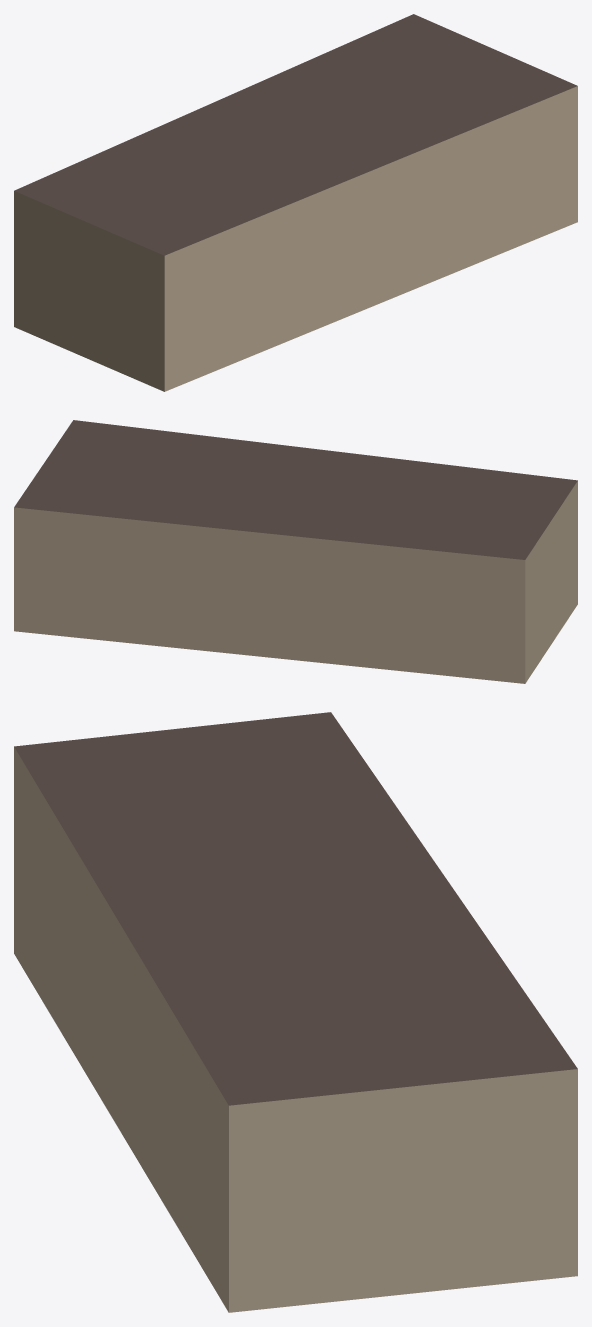
The picture shows the model from 3 angles, top to bottom: view 1: azimuth 30°, elevation 25°; view 2: azimuth 150°, elevation 25°; view 3: azimuth 270°, elevation 25°; orthographic projection. The views are drawn at different scales.
Visible parts, largest first — view 1: HP-w1512359808; view 2: HP-w1512359808; view 3: HP-w1512359808.
Part boxes in pixels (x1,y1,x2,y2): HP-w1512359808: (14, 14, 577, 391); HP-w1512359808: (14, 420, 577, 683); HP-w1512359808: (14, 712, 577, 1312).
Size of the model in its own units: 36.68 by 9 by 22.21.
